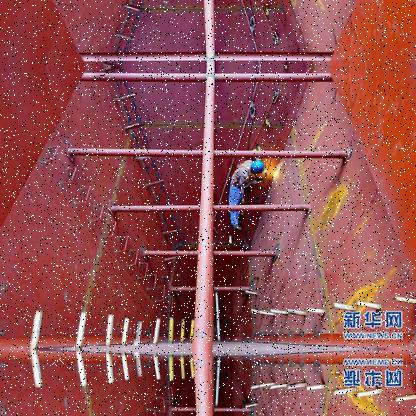Helmet: (247, 155, 268, 180)
